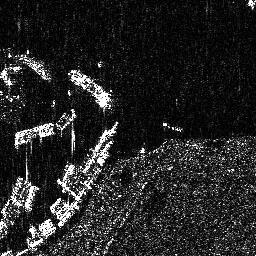ship: (66, 70, 111, 107), (14, 122, 54, 148)
